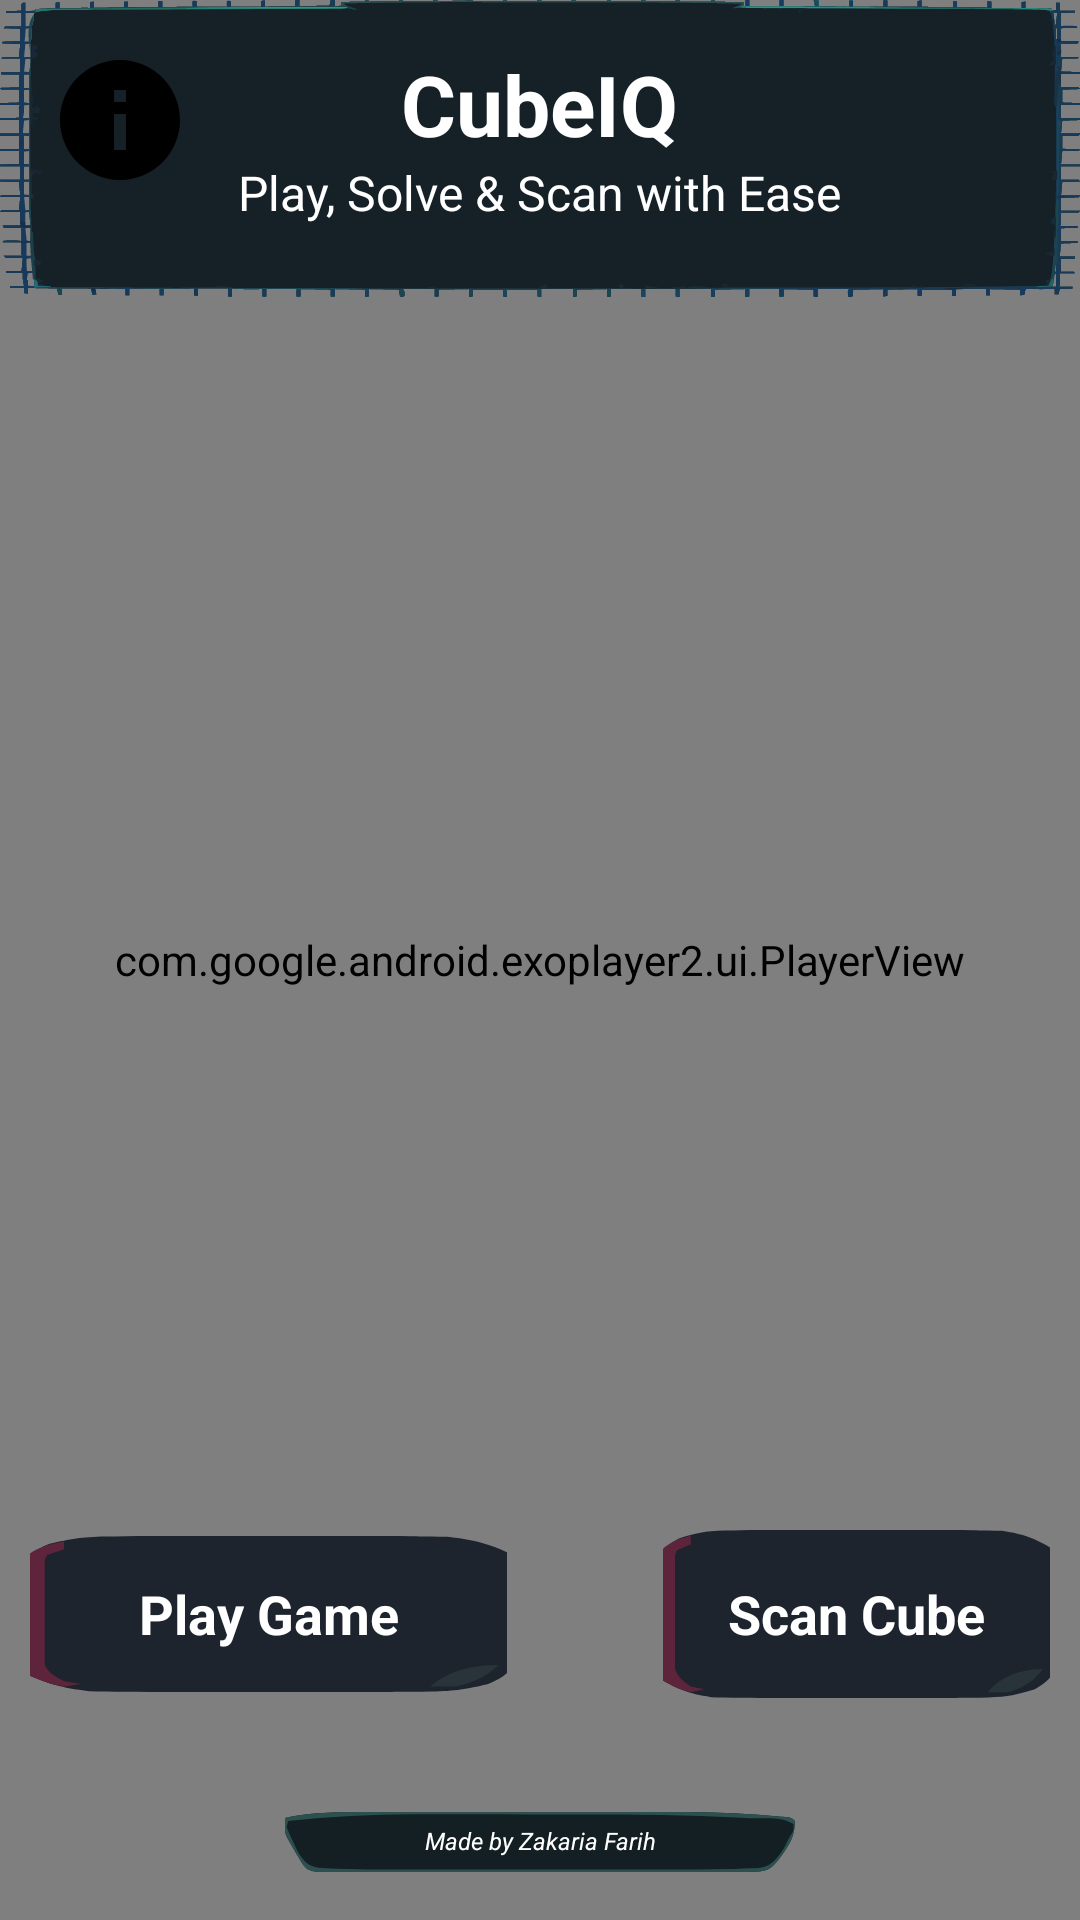

Icon click points for this 1080 x 1920 phone screenshot, format (x=x, y=y):
Instructions: (x=120, y=120)
